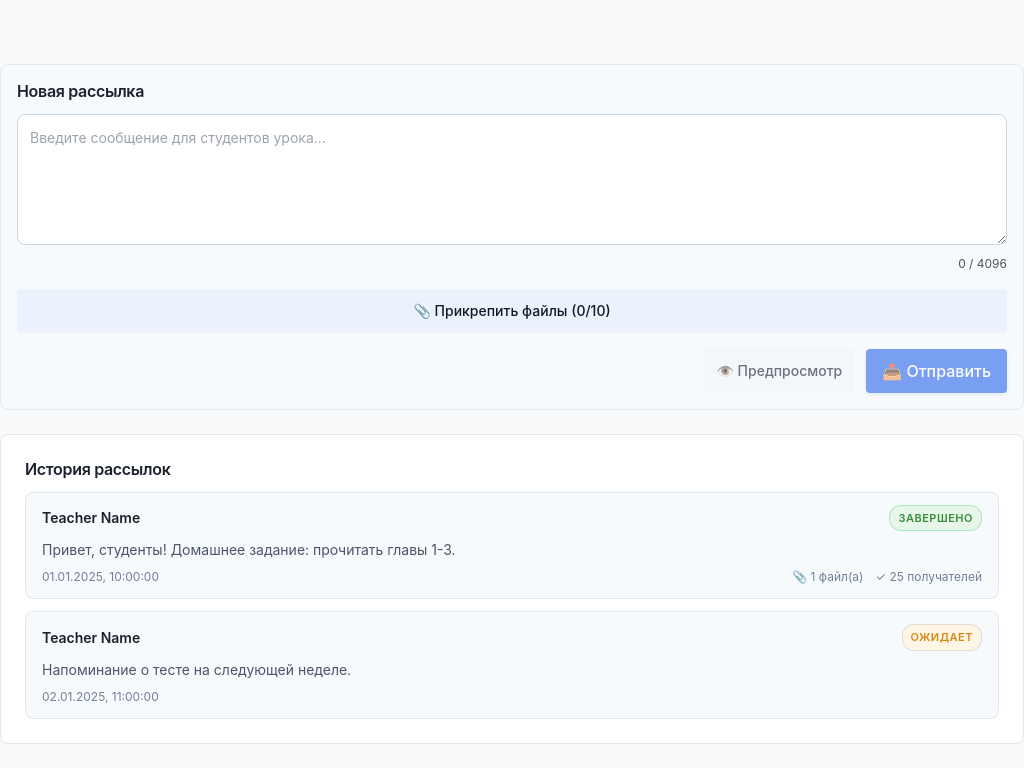
Test: BroadcastSection › Preview › should show preview modal with message
Type "Test message content" into the text box with placeholder "Введите сообщение для студентов урока...". click: point(512, 179)
box: [17,114,1007,245]
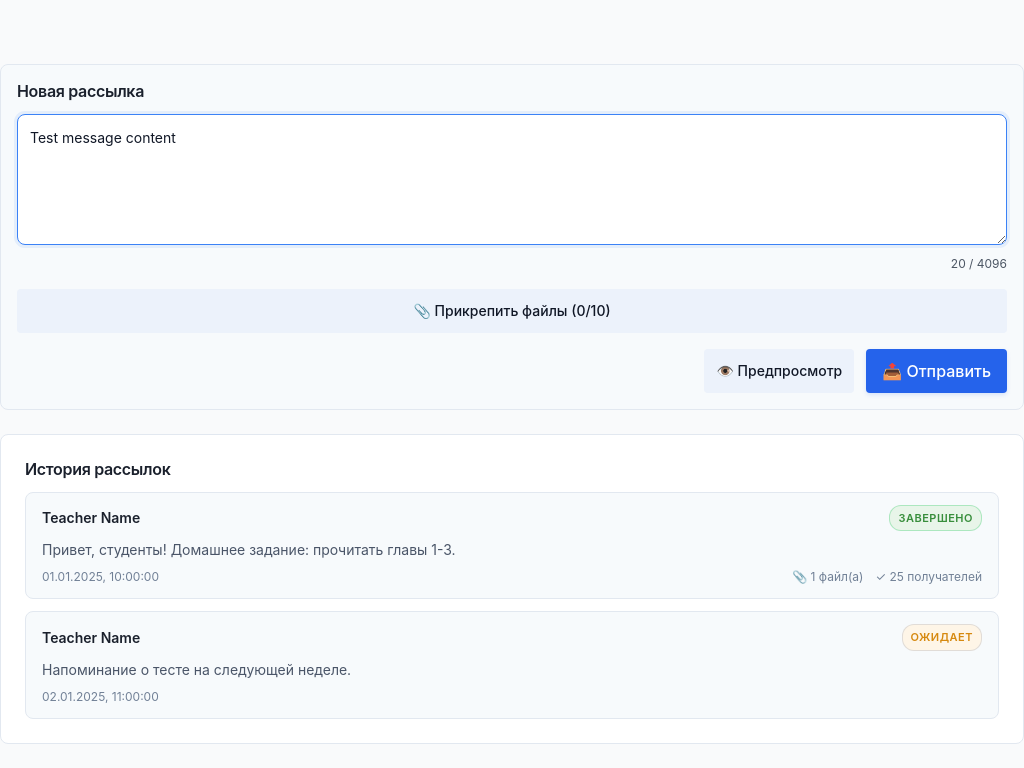
Click the button "👁️ Предпросмотр". click: point(779, 371)
box: [704,349,854,393]
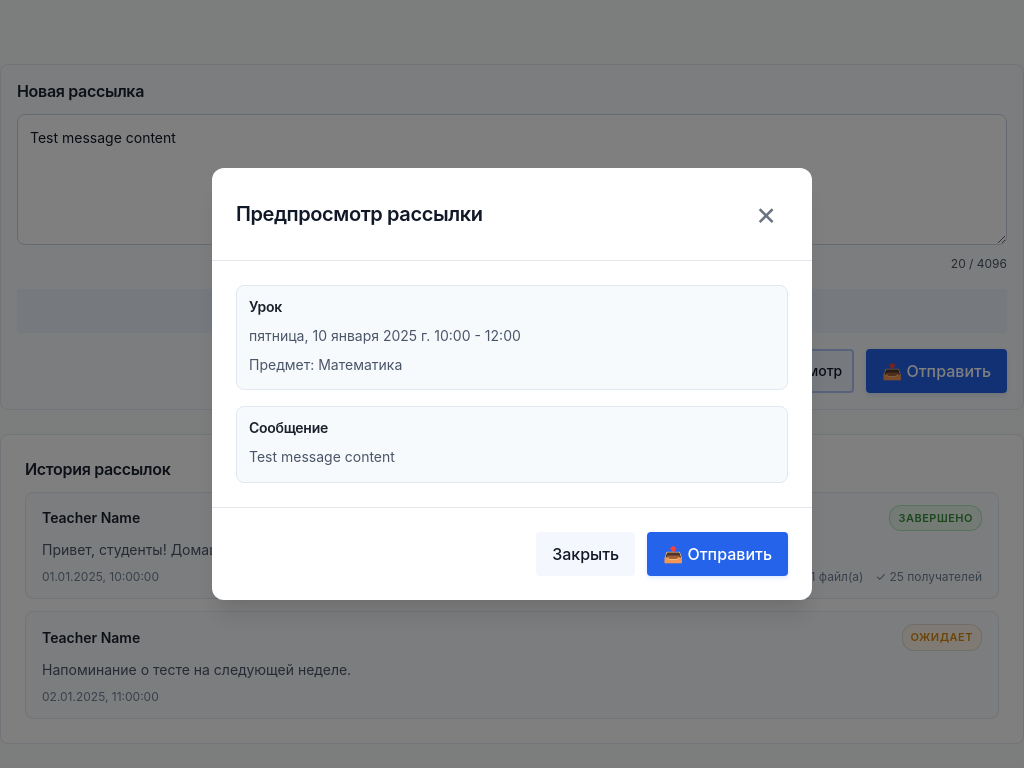
Result: the heading "Предпросмотр рассылки" is shown at [236,201,482,227]
